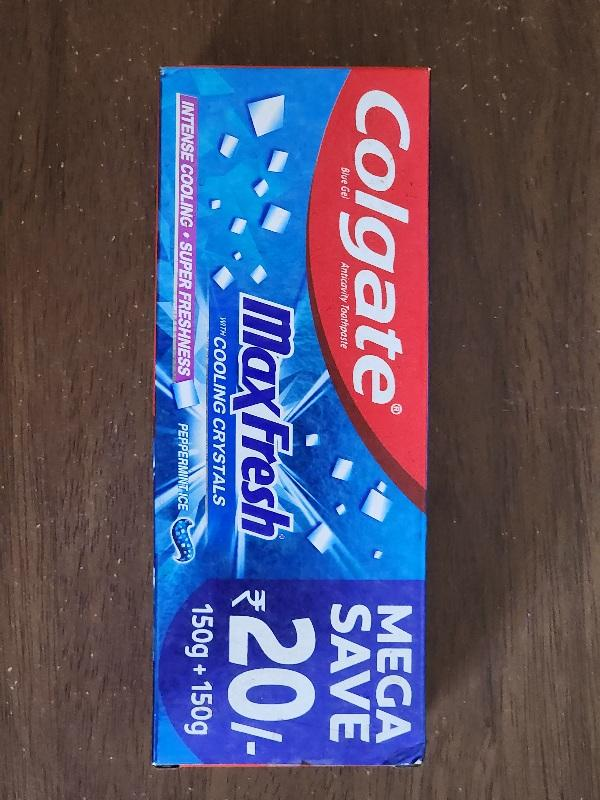Colgate: (155, 66, 423, 766)
